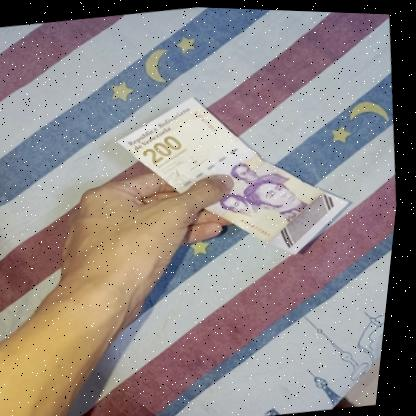two_hundred-front-vef: (101, 71, 370, 279)
